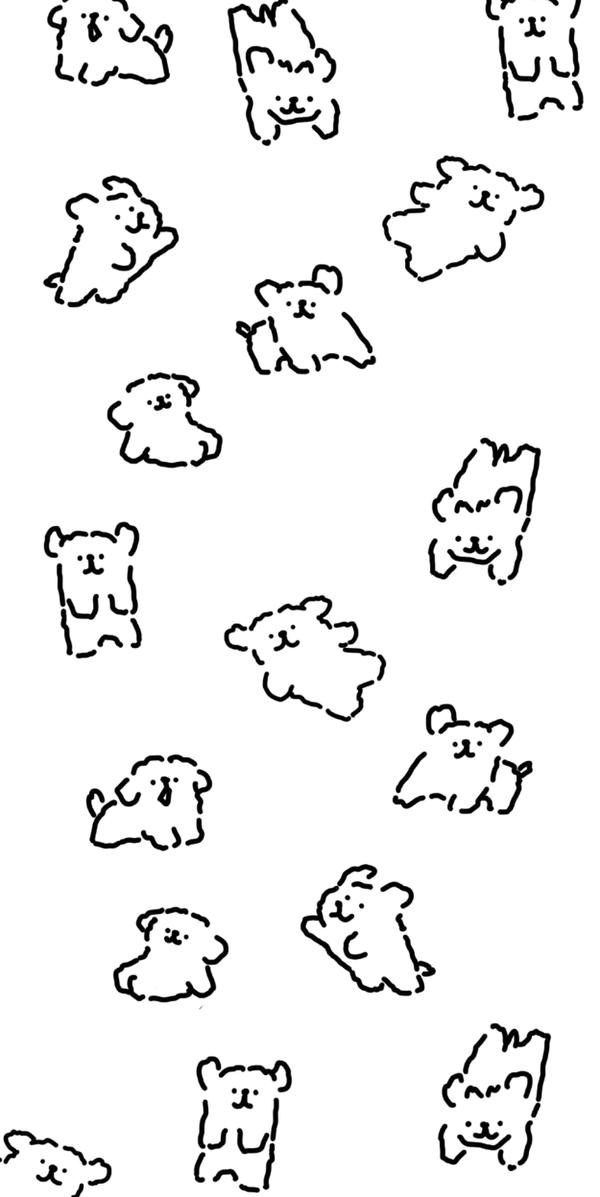white: (219, 592, 401, 727), (290, 856, 442, 1013), (384, 155, 551, 286), (43, 173, 183, 313), (389, 702, 540, 827), (436, 1020, 556, 1176), (223, 2, 351, 147), (428, 435, 542, 593), (180, 1050, 296, 1197), (236, 264, 379, 374), (85, 747, 228, 854), (42, 515, 147, 660), (479, 1, 586, 125), (108, 898, 229, 1007), (105, 374, 232, 467), (47, 1, 174, 87), (3, 1107, 118, 1197)
